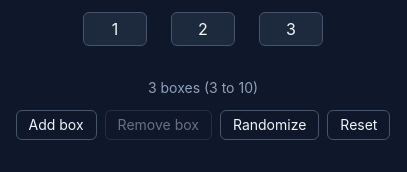
Test: BoxEditor › shows an error and does not commit an out-of-range value
The image size is (407, 172).
Replace the text in the field named "Value of box 2" with "100": (203, 29) [171, 12, 235, 46]
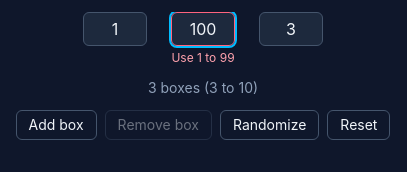
expect the text "Use 1 to 99" is shown: met, box [171, 50, 235, 66]
